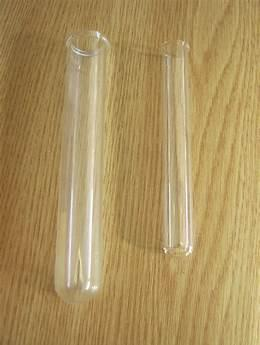Test tube: (59, 30, 107, 306), (152, 31, 203, 265)
